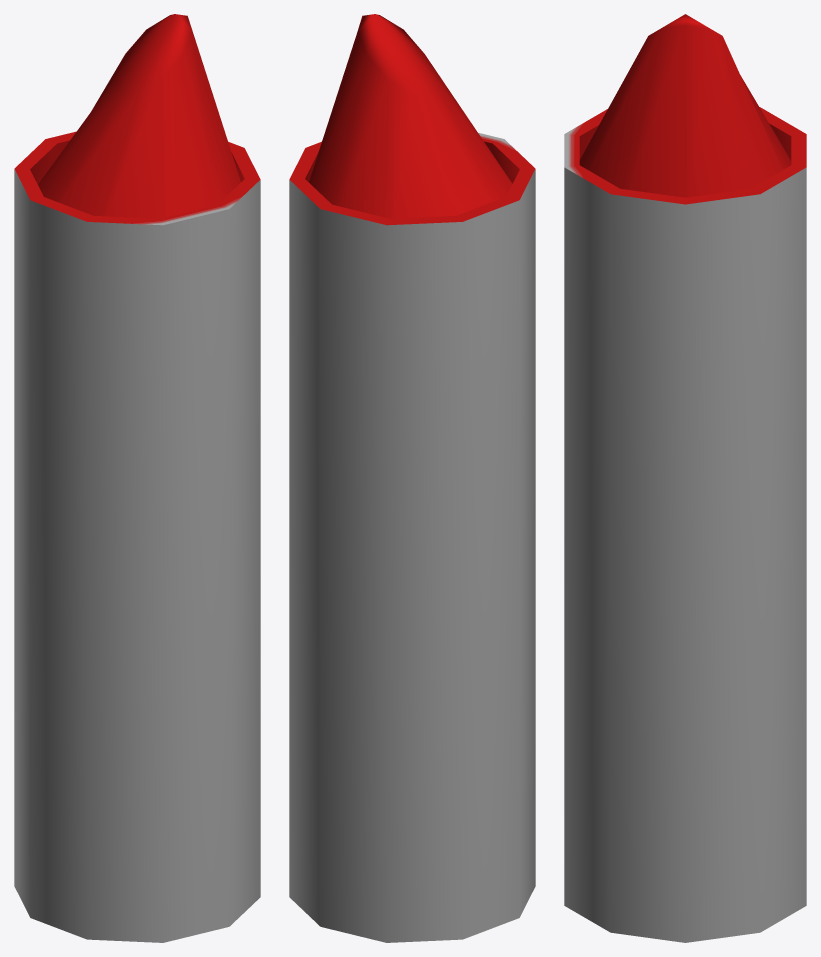
Rendered from Lipstick_Text.fbx.
3 views of the same model, side by side, from view 1: azimuth 30°, elevation 25°; view 2: azimuth 150°, elevation 25°; view 3: azimuth 270°, elevation 25° (orthographic). The views are drawn at different scales.
Visible parts, largest first — view 1: Lipstick; view 2: Lipstick; view 3: Lipstick.
Part boxes in pixels (x1,y1,x2,y2): Lipstick: (14, 14, 260, 942); Lipstick: (289, 14, 535, 942); Lipstick: (564, 14, 806, 942).
Bounding box in the file's own units: 2 × 7.75 × 1.9.
Materials: 1 (1 with a texture image).
